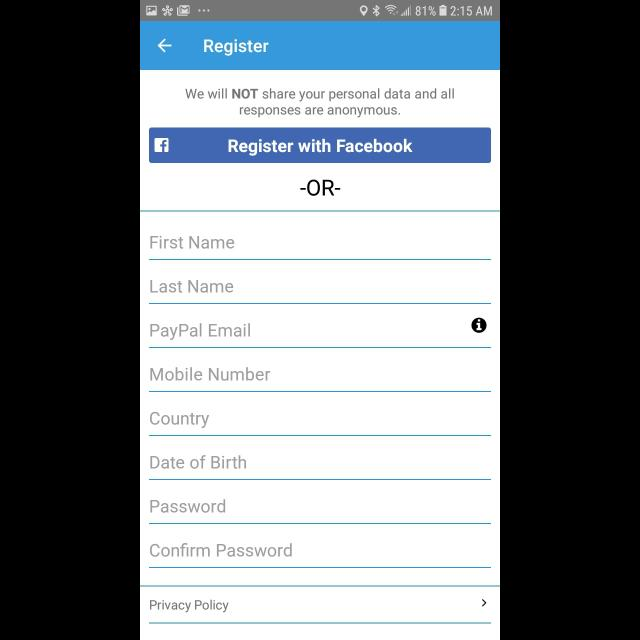icon: (158, 38, 172, 54), (472, 318, 486, 334), (482, 599, 486, 607)
input: (149, 317, 491, 348), (149, 544, 491, 568), (149, 500, 491, 524), (149, 456, 491, 480), (149, 412, 491, 436), (149, 368, 491, 392), (149, 236, 491, 260), (149, 280, 491, 304)
text: (186, 89, 454, 119), (151, 543, 293, 557), (150, 323, 250, 341), (150, 367, 270, 381), (150, 455, 246, 469), (204, 39, 268, 57), (150, 499, 226, 513), (150, 280, 234, 292), (151, 236, 235, 248), (150, 412, 210, 428), (150, 600, 230, 612), (300, 180, 340, 197)
textbutton: (149, 128, 491, 164)
uppertaskbar: (140, 1, 500, 22)
